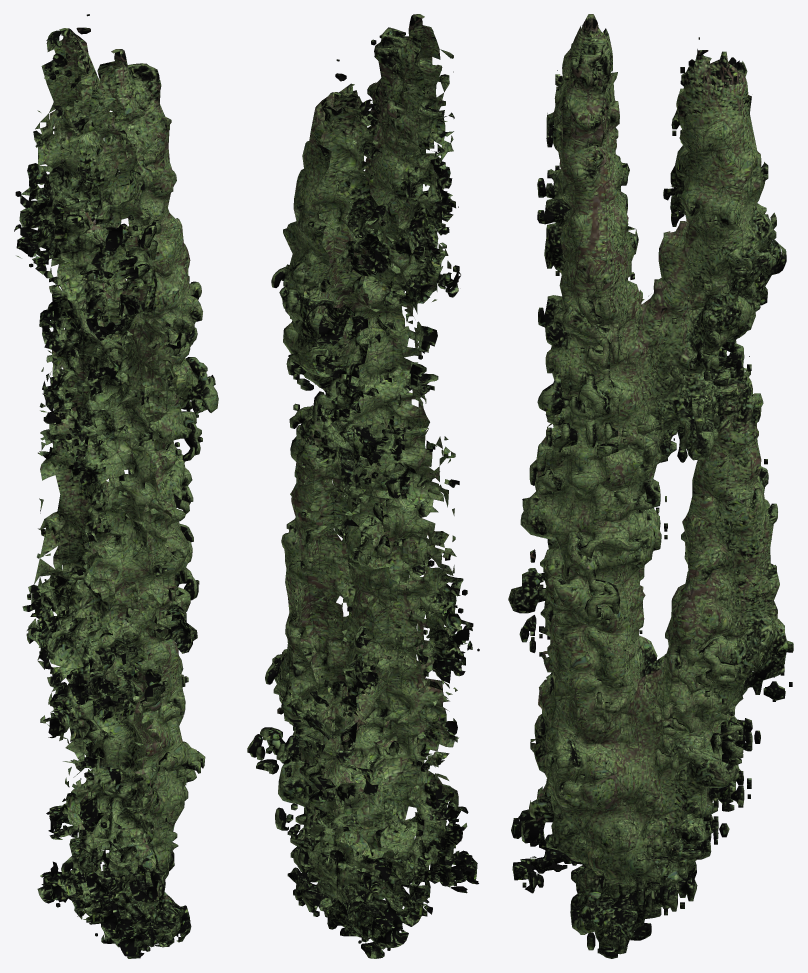
The model's file is bg_vines_test.fbx.
The picture shows the model from 3 angles, left to right: view 1: azimuth 30°, elevation 25°; view 2: azimuth 150°, elevation 25°; view 3: azimuth 270°, elevation 25°; orthographic projection.
Visible parts, largest first — view 1: Building_vegetation_3.001; view 2: Building_vegetation_3.001; view 3: Building_vegetation_3.001.
Boxes of the visible parts, x1,y1,x2,y2 form: Building_vegetation_3.001: (14, 14, 218, 958); Building_vegetation_3.001: (247, 14, 479, 958); Building_vegetation_3.001: (508, 14, 793, 958).
Bounding box in the file's own units: 831 × 5080 × 1441.
